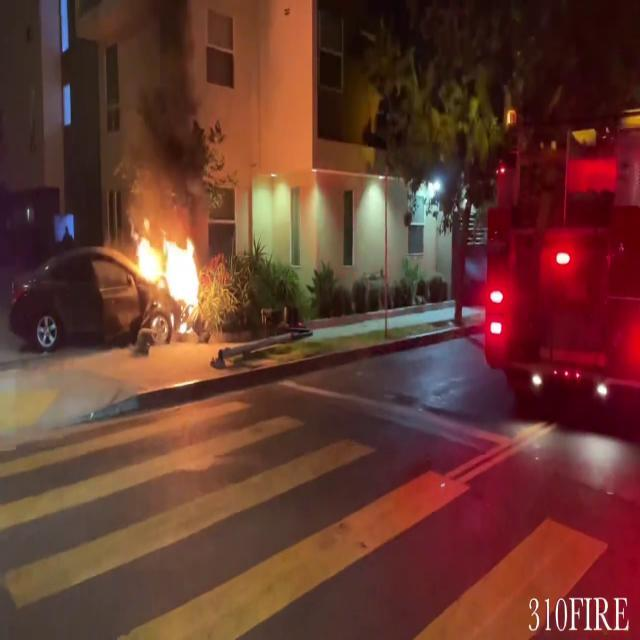Fire: (127, 217, 210, 331)
Smoke: (104, 1, 218, 210)
